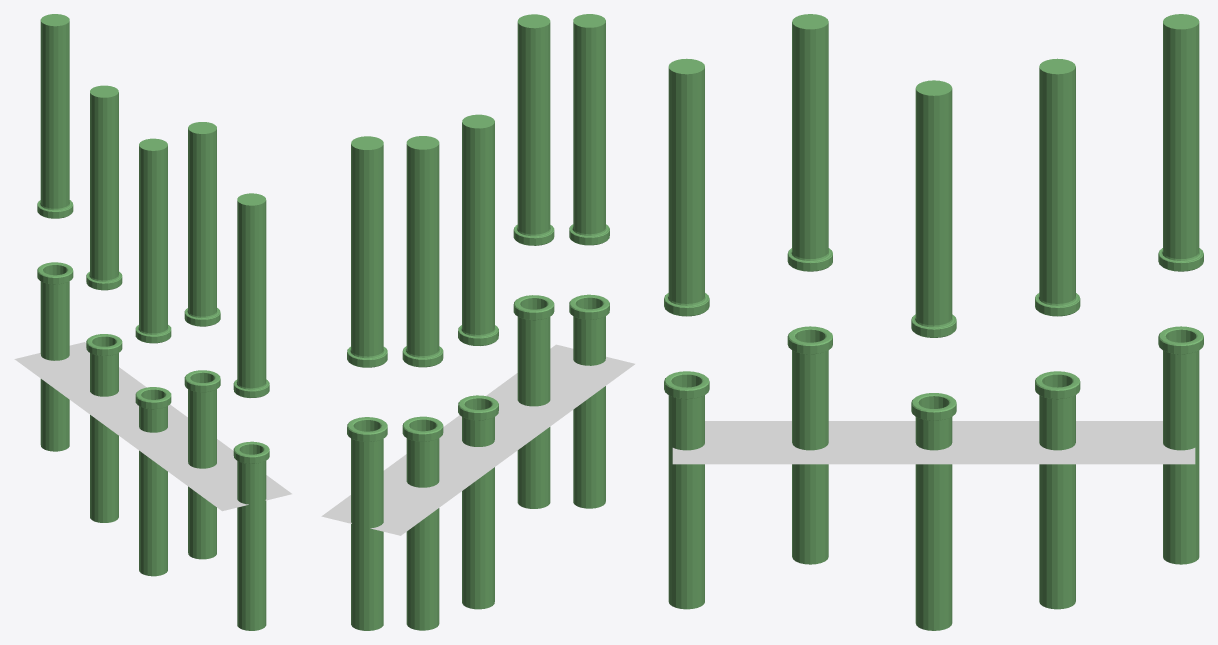
File: LowPolyPipe.fbx
The picture shows the model from 3 angles, left to right: view 1: azimuth 30°, elevation 25°; view 2: azimuth 150°, elevation 25°; view 3: azimuth 270°, elevation 25°; orthographic projection. The views are drawn at different scales.
Parts seen in each view (by area): view 1: Plane, Pipe.005, Pipe.007, Pipe.003, Pipe.001, Pipe.009, Pipe.006, Pipe.004, Pipe, Pipe.008, Pipe.002; view 2: Plane, Pipe.009, Pipe.003, Pipe.005, Pipe.007, Pipe.001, Pipe.004, Pipe.002, Pipe.008, Pipe, Pipe.006; view 3: Plane, Pipe.001, Pipe.005, Pipe.007, Pipe.003, Pipe.009, Pipe, Pipe.004, Pipe.006, Pipe.008, Pipe.002.
Part boxes in pixels (x1,y1,x2,y2): Plane: (14, 342, 291, 511); Pipe.005: (37, 14, 73, 218); Pipe.007: (233, 193, 269, 397); Pipe.003: (86, 85, 122, 290); Pipe.001: (135, 138, 171, 343); Pipe.009: (184, 122, 220, 326); Pipe.006: (233, 441, 269, 630); Pipe.004: (37, 262, 73, 451); Pipe: (135, 387, 171, 576); Pipe.008: (184, 370, 220, 559); Pipe.002: (86, 334, 122, 522); Plane: (321, 344, 634, 535); Pipe.009: (513, 14, 554, 245); Pipe.003: (402, 136, 443, 367); Pipe.005: (347, 136, 387, 367); Pipe.007: (569, 14, 609, 245); Pipe.001: (458, 114, 498, 345); Pipe.004: (347, 417, 387, 630); Pipe.002: (402, 416, 443, 630); Pipe.008: (513, 295, 554, 508); Pipe: (458, 395, 498, 609); Pipe.006: (569, 294, 609, 508); Plane: (672, 421, 1195, 464); Pipe.001: (911, 80, 956, 337); Pipe.005: (1158, 14, 1203, 271); Pipe.007: (664, 58, 709, 316); Pipe.003: (1035, 58, 1080, 316); Pipe.009: (787, 14, 832, 271); Pipe: (911, 393, 956, 630); Pipe.004: (1158, 326, 1203, 564); Pipe.006: (664, 371, 709, 609); Pipe.008: (787, 326, 832, 564); Pipe.002: (1035, 371, 1080, 609).
Size of the model in its own units: 414 by 2685 by 2184.
